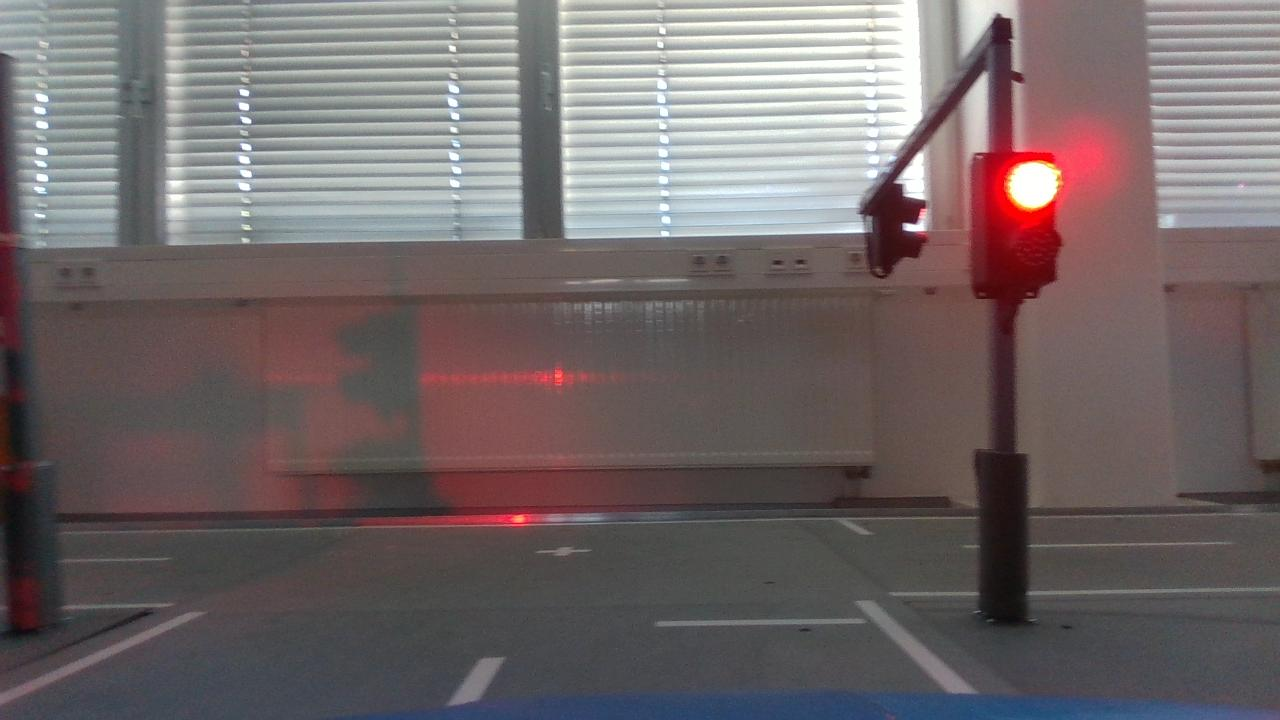traffic_light_red: (958, 144, 1079, 304)
